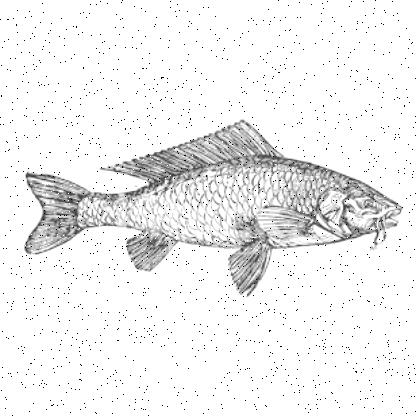ikan-mas: (26, 121, 406, 283)
